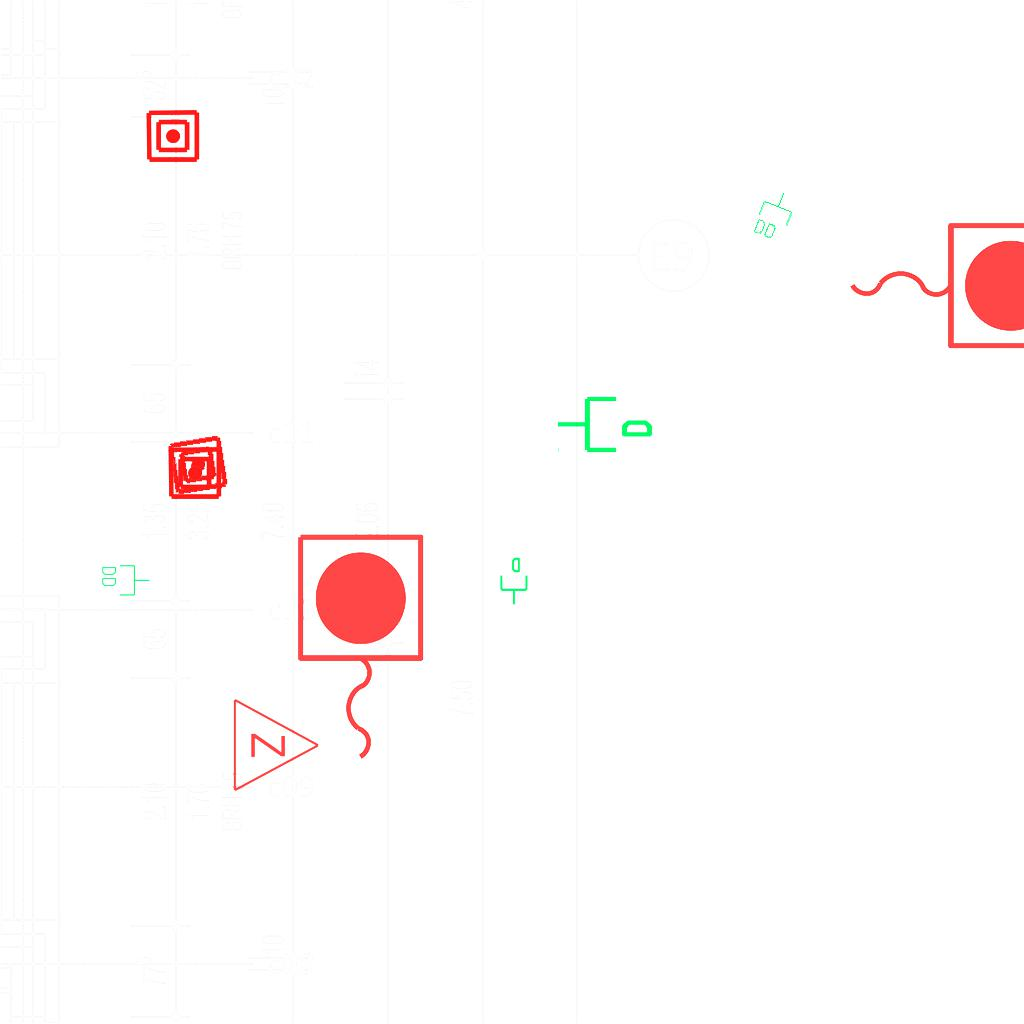Datenanschluss_einfach: (555, 388, 655, 457), (496, 556, 530, 606)
Datenanschluss_zweifach: (749, 184, 800, 246), (100, 563, 151, 597)
NAM-Nichtautomatischer_Melder: (165, 432, 231, 498), (145, 108, 201, 164), (167, 445, 223, 501)
Zimmersignalleuchte: (226, 695, 326, 793)
Zugtaster: (287, 526, 431, 770), (839, 212, 1024, 356)
